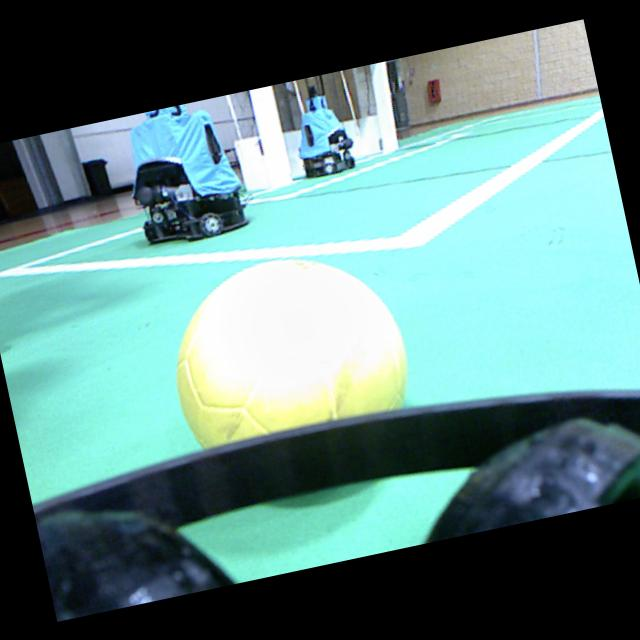ball: (176, 260, 406, 447)
goal: (249, 85, 291, 188), (369, 61, 398, 152)
